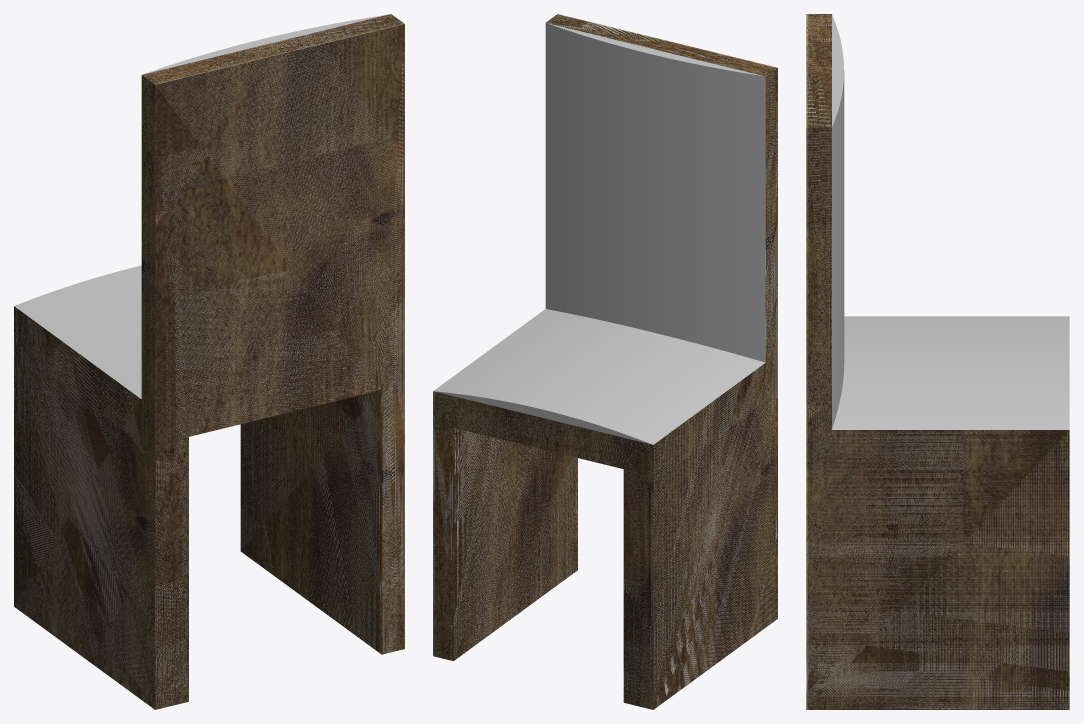
3 renders of one model, left to right at view 1: azimuth 30°, elevation 25°; view 2: azimuth 150°, elevation 25°; view 3: azimuth 270°, elevation 25°, orthographic. The views are drawn at different scales.
Parts seen in each view (by area): view 1: mesh1_mesh1-geometry; view 2: mesh1_mesh1-geometry; view 3: mesh1_mesh1-geometry.
Part boxes in pixels (box(x1,y1,x2,y2)): mesh1_mesh1-geometry: box(14, 14, 404, 709); mesh1_mesh1-geometry: box(433, 14, 777, 709); mesh1_mesh1-geometry: box(806, 14, 1069, 709).
Bounding box in the file's own units: 0.361 × 0.863 × 0.3533.
